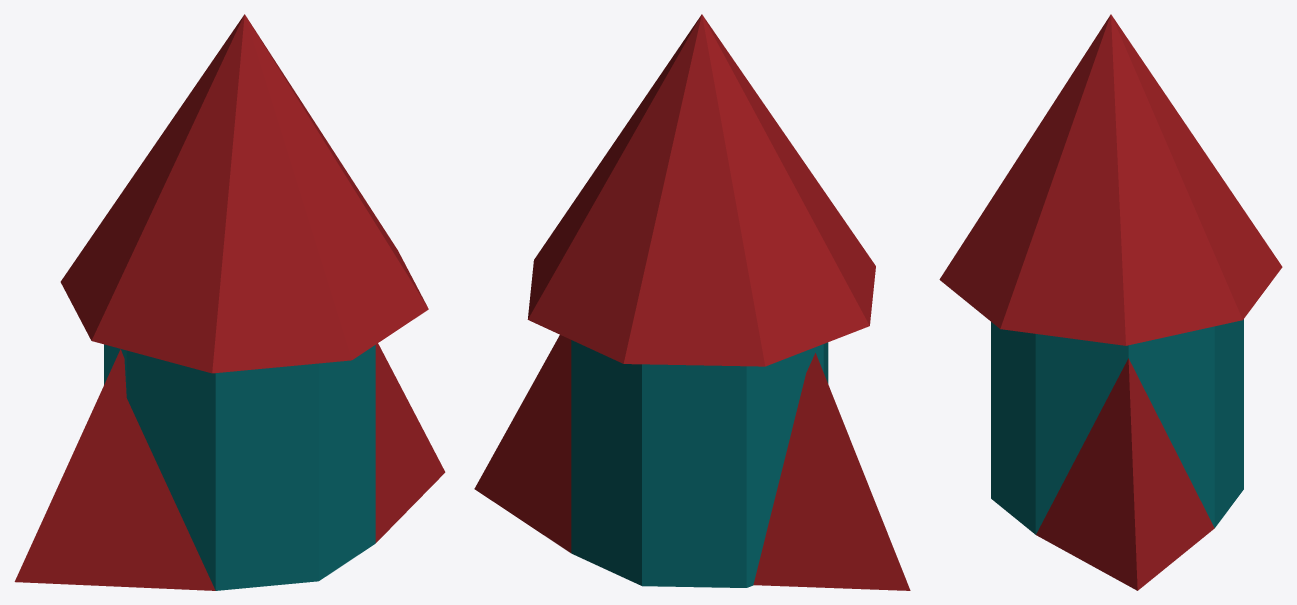
The model's file is JustAProjectile.fbx.
3 views of the same model, side by side, from view 1: azimuth 30°, elevation 25°; view 2: azimuth 150°, elevation 25°; view 3: azimuth 270°, elevation 25° (orthographic). The views are drawn at different scales.
Parts seen in each view (by area): view 1: ProjectileDestructive; view 2: ProjectileDestructive; view 3: ProjectileDestructive.
Part boxes in pixels (x1=…): ProjectileDestructive: x1=14, y1=14, x2=445, y2=590; ProjectileDestructive: x1=474, y1=14, x2=910, y2=590; ProjectileDestructive: x1=939, y1=14, x2=1282, y2=590.
Bounding box in the file's own units: 110 × 125 × 81.15.
